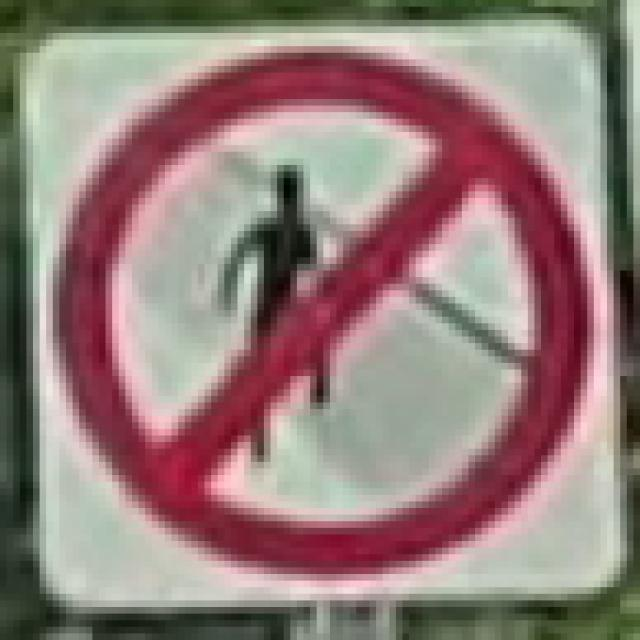nojaywalking_sign: (12, 19, 626, 614)
